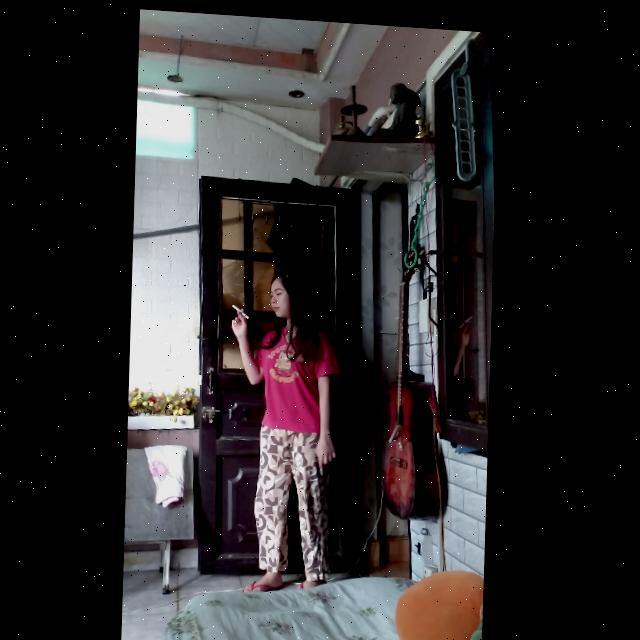cigarette: (233, 301, 251, 315)
